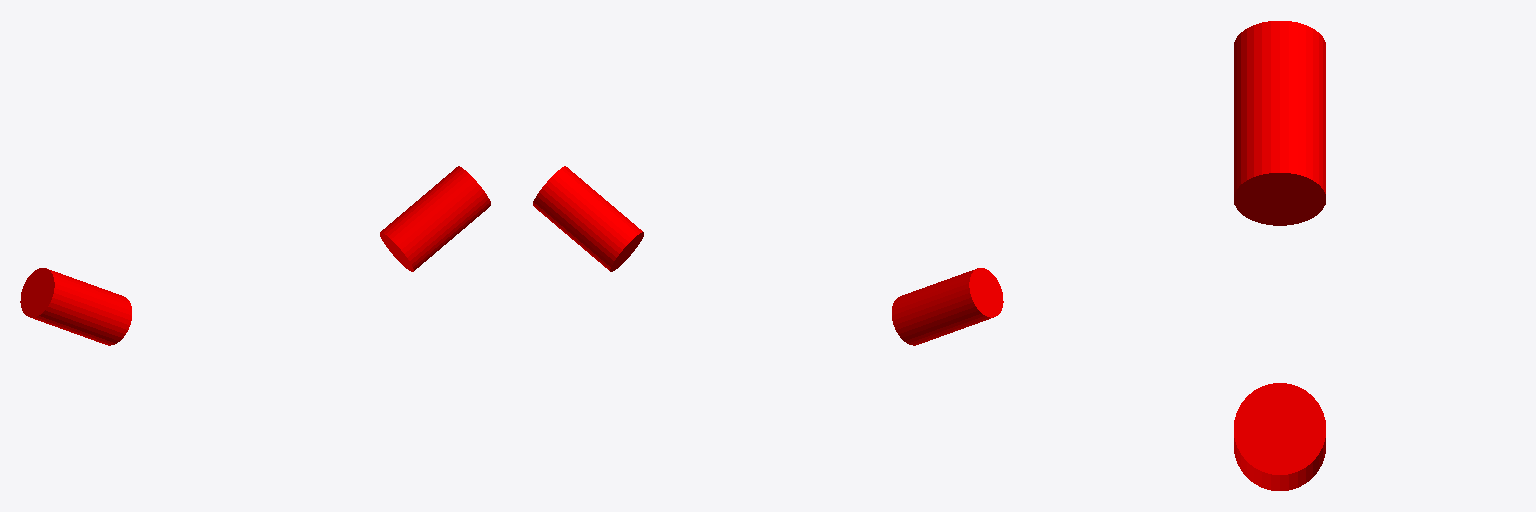
The robot description file, URDF, robot "example_robot":
<?xml version="1.0" ?>
<robot name="example_robot">

	<!-- * * * Link Definitions * * * -->
	
	<link name="tcp_stl">
		<visual>
			<origin xyz="0 0 0" rpy="0 0 0"/>
			<material name="grey">
				<color rgba="0.3 0.3 0.3 1"/>
			</material>
            <geometry>
                <mesh filename="tool_mesh/KM_m.stl"/>
            </geometry>
		</visual>
	</link>
	<link name="tcp"/>
	<link name="fl1">
		<visual>
			<origin xyz="0 0 0" rpy="0 0 0"/>
			<material name="red">
				<color rgba="1 0 0 1"/>
			</material>
			<geometry>
				<cylinder length="0.2" radius="0.05"/>
			</geometry>
		</visual>
	</link>
	<link name="fl2">
		<visual>
			<origin xyz="0 0 0" rpy="0 0 0"/>
			<material name="red">
				<color rgba="1 0 0 1"/>
			</material>
			<geometry>
				<cylinder length="0.2" radius="0.05"/>
			</geometry>
		</visual>
	</link>
	<joint name="tcp" type="fixed">
		<parent link="tcp_stl"/>
		<child link="tcp"/>
		<origin xyz="0 0 0" rpy="0 0 0"/>
	</joint>
	<joint name="fl1" type="fixed">
		<parent link="tcp_stl"/>
		<child link="fl1"/>
		<origin xyz="0.4 0 0.6928" rpy="0 -2.0943951023932 0"/>
	</joint>
	<joint name="fl2" type="fixed">
		<parent link="tcp_stl"/>
		<child link="fl2"/>
		<origin xyz="-0.4 0 0.6928" rpy="0 2.0943951023932 0"/>
	</joint>


</robot>

--- Render facts (derived) ---
Views: 3 orthographic renders of the robot side by side, from view 1: azimuth 30°, elevation 25°; view 2: azimuth 150°, elevation 25°; view 3: azimuth 270°, elevation 25°.
Model example_robot with 4 links and 3 joints (3 fixed), rooted at tcp_stl, posed every joint at zero.
Links seen in each view (by area): view 1: fl1, fl2; view 2: fl1, fl2; view 3: fl2, fl1.
Boxes of the visible links, bbox=[...] form: fl1: bbox=[380, 166, 490, 271]; fl2: bbox=[20, 268, 131, 345]; fl1: bbox=[533, 166, 643, 271]; fl2: bbox=[892, 268, 1003, 345]; fl2: bbox=[1234, 21, 1325, 225]; fl1: bbox=[1234, 383, 1325, 490].
Size in the robot's own frame: 1.02 by 0.1 by 0.1866 metres.
Meshes: 1 distinct files referenced, 0 mesh visuals loaded (none loaded); not drawn: 1 (reference not matched to a file when rendering).